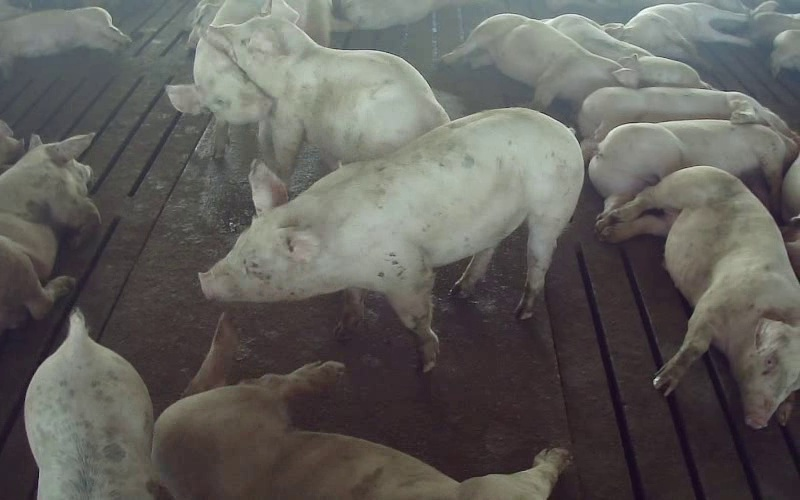pig: (199, 111, 581, 371), (152, 314, 570, 499), (596, 166, 799, 428), (211, 0, 448, 176), (25, 310, 154, 499), (588, 119, 795, 215), (0, 133, 99, 332), (442, 14, 637, 109), (578, 87, 797, 160), (542, 14, 711, 88), (0, 7, 130, 76), (604, 3, 751, 62)
